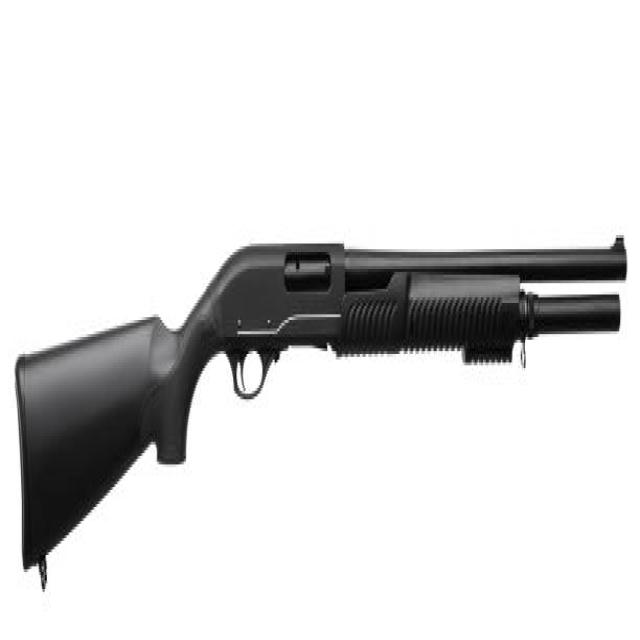rifle: (14, 210, 630, 595)
